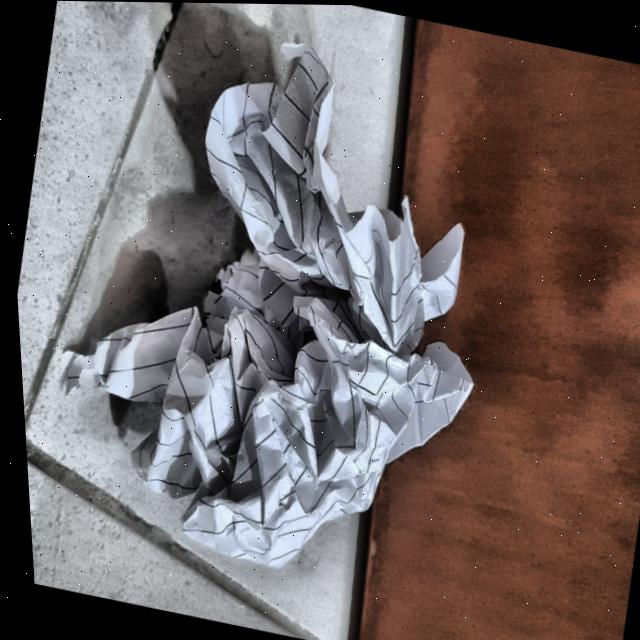paper: (38, 57, 518, 587)
